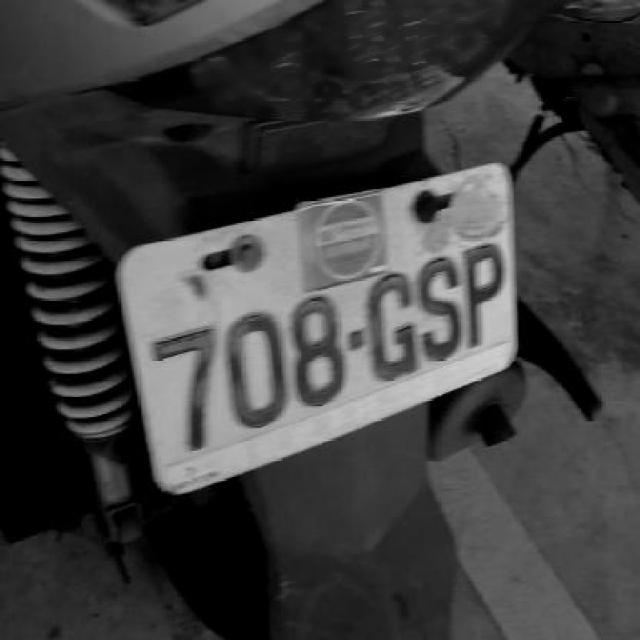-: (346, 326, 366, 351)
0: (223, 306, 289, 434)
7: (149, 320, 220, 452)
8: (288, 294, 349, 408)
G: (364, 264, 418, 384)
P: (460, 243, 508, 348)
S: (414, 254, 463, 366)
